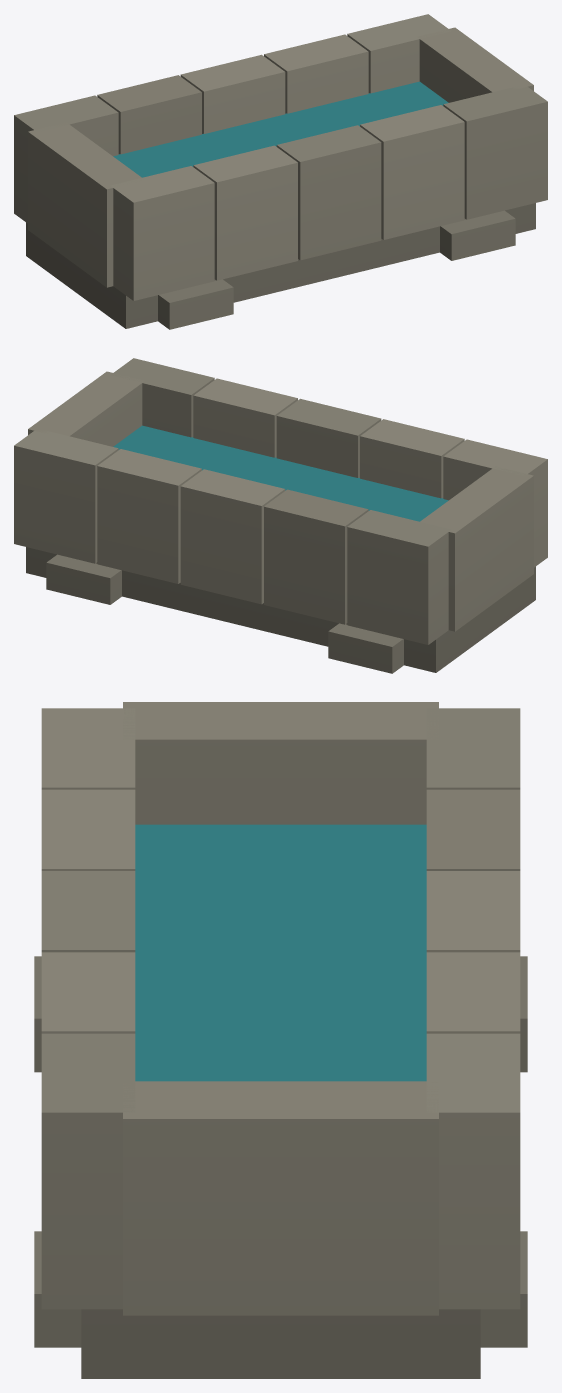
File: town_trough.glb
3 views of the same model, one above another, from view 1: azimuth 30°, elevation 25°; view 2: azimuth 150°, elevation 25°; view 3: azimuth 270°, elevation 25° (orthographic). The views are drawn at different scales.
Visible parts, largest first — view 1: town_trough; view 2: town_trough; view 3: town_trough.
Boxes of the visible parts, x1,y1,x2,y2 form: town_trough: (14, 14, 547, 329); town_trough: (14, 358, 547, 673); town_trough: (34, 702, 527, 1378).
Size of the model in its own units: 2 by 0.6 by 1.
